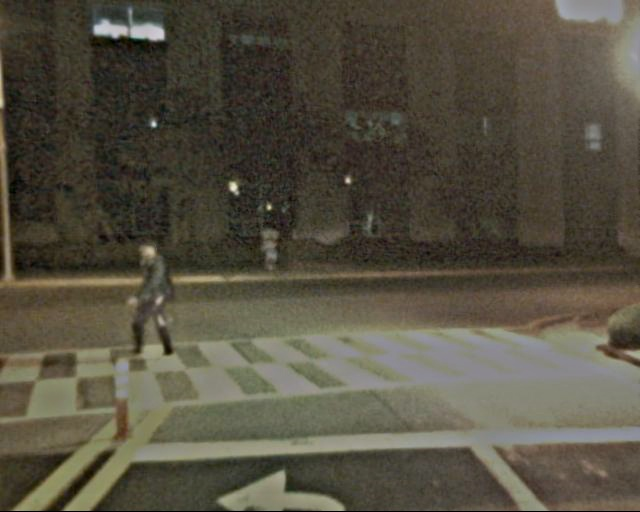person: (127, 236, 180, 365)
